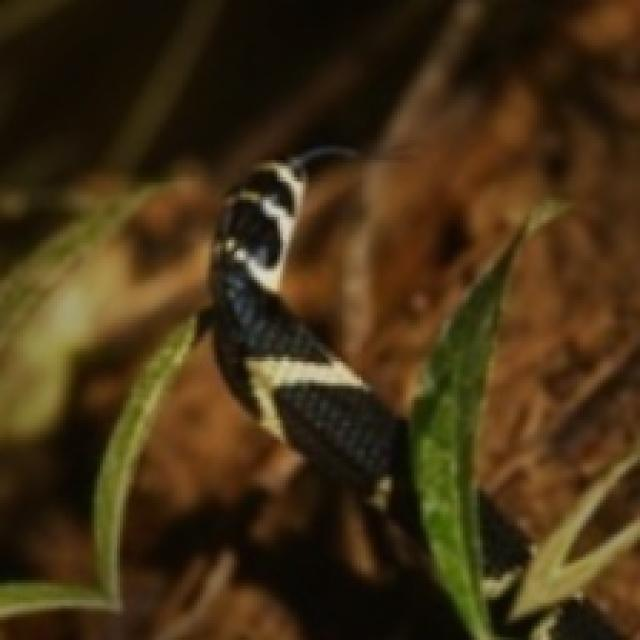king cobra: (200, 157, 563, 637), (509, 446, 637, 626)
